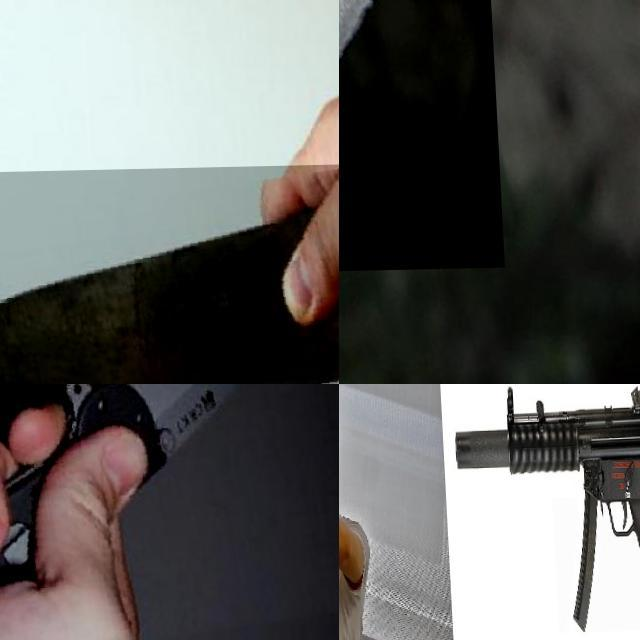-: (0, 384, 339, 640), (0, 162, 339, 384), (339, 0, 534, 276)
gun-knife-thesis - v11 Yolov5 augmented: (443, 384, 640, 640), (339, 440, 377, 539), (339, 384, 383, 461), (600, 384, 640, 461)
